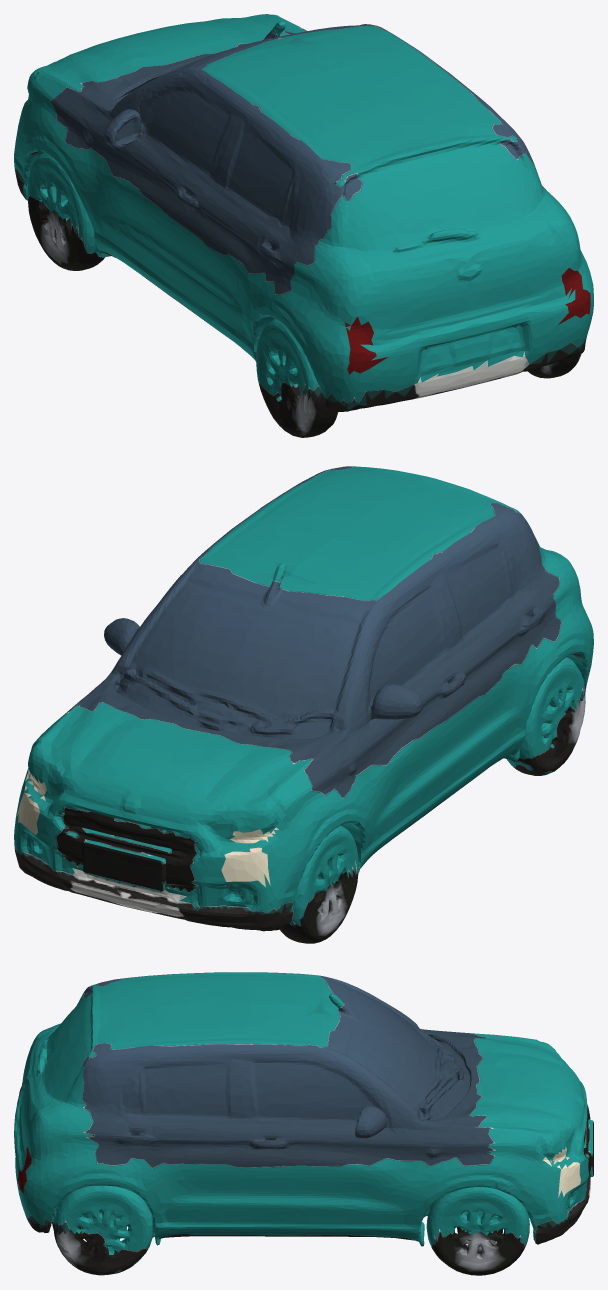
Rendered from pride.glb.
3 views of the same model, one above another, from view 1: azimuth 30°, elevation 25°; view 2: azimuth 150°, elevation 25°; view 3: azimuth 270°, elevation 25° (orthographic). The views are drawn at different scales.
Parts seen in each view (by area): view 1: body, taillights_rear, wheel_0, wheel_1, wheel_3; view 2: body, headlights_front, wheel_0, wheel_1; view 3: body, wheel_2, wheel_3, headlights_front.
Part boxes in pixels (bbox=[...]): body: bbox=[14, 14, 593, 437]; taillights_rear: bbox=[344, 267, 590, 374]; wheel_0: bbox=[31, 200, 103, 270]; wheel_1: bbox=[287, 387, 364, 437]; wheel_3: bbox=[536, 345, 585, 378]; body: bbox=[14, 466, 593, 940]; headlights_front: bbox=[16, 769, 278, 887]; wheel_0: bbox=[285, 871, 355, 943]; wheel_1: bbox=[563, 691, 585, 757]; body: bbox=[14, 972, 593, 1275]; wheel_2: bbox=[439, 1227, 515, 1275]; wheel_3: bbox=[31, 1225, 92, 1271]; headlights_front: bbox=[543, 1146, 580, 1197].
Size of the model in its own units: 88.4 by 75.35 by 172.
7 materials, 1 textured.
